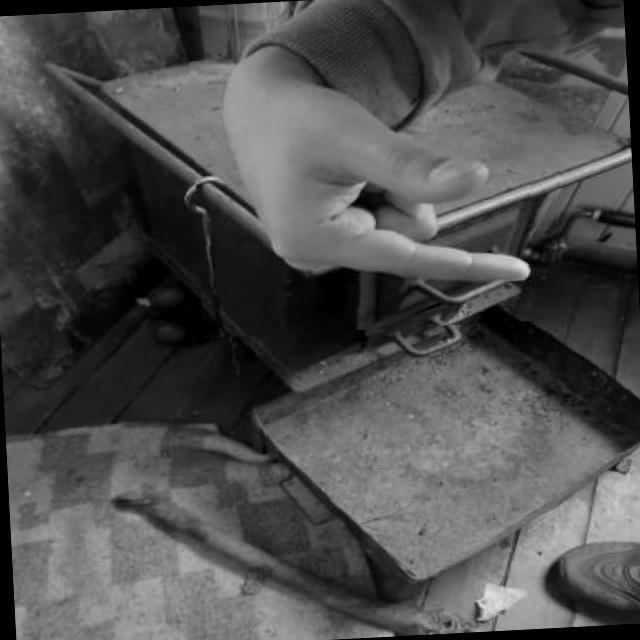G: (190, 43, 568, 340)
